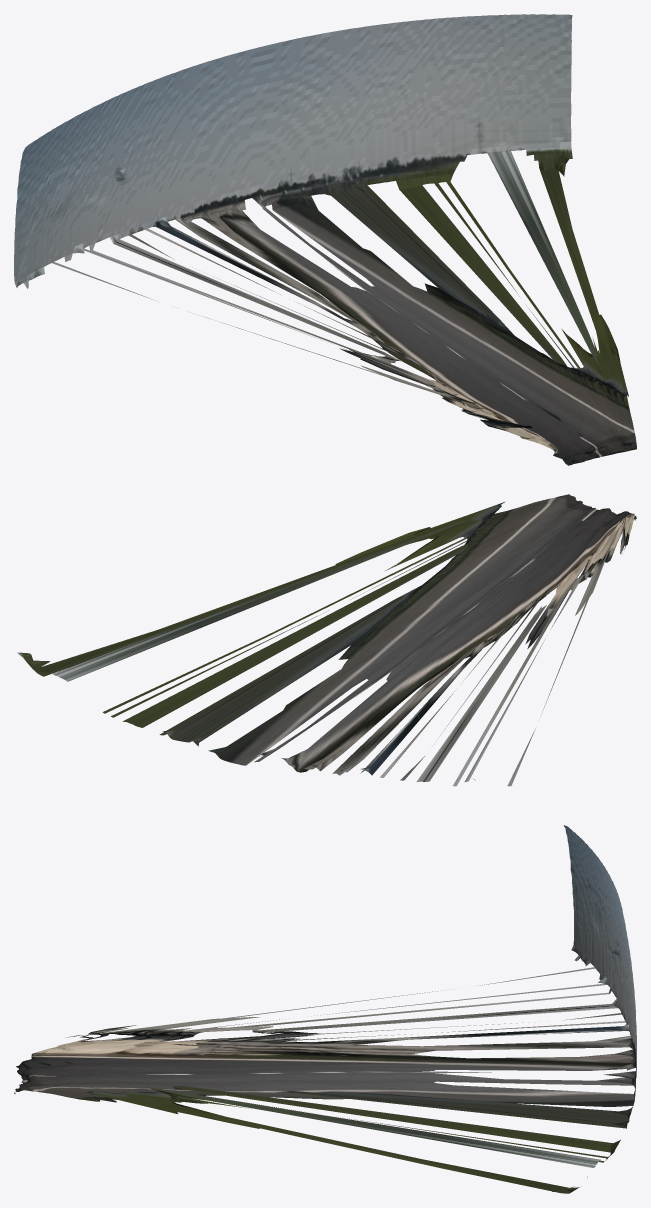
3 views of the same model, one above another, from view 1: azimuth 30°, elevation 25°; view 2: azimuth 150°, elevation 25°; view 3: azimuth 270°, elevation 25° (orthographic). The views are drawn at different scales.
Parts seen in each view (by area): view 1: defaultobject; view 2: defaultobject; view 3: defaultobject.
Boxes of the visible parts, x1,y1,x2,y2 form: defaultobject: (14, 14, 636, 465); defaultobject: (17, 494, 636, 786); defaultobject: (14, 825, 636, 1193).
Size of the model in its own units: 41.16 by 12.09 by 44.42.
Materials: 1 (1 with a texture image).
